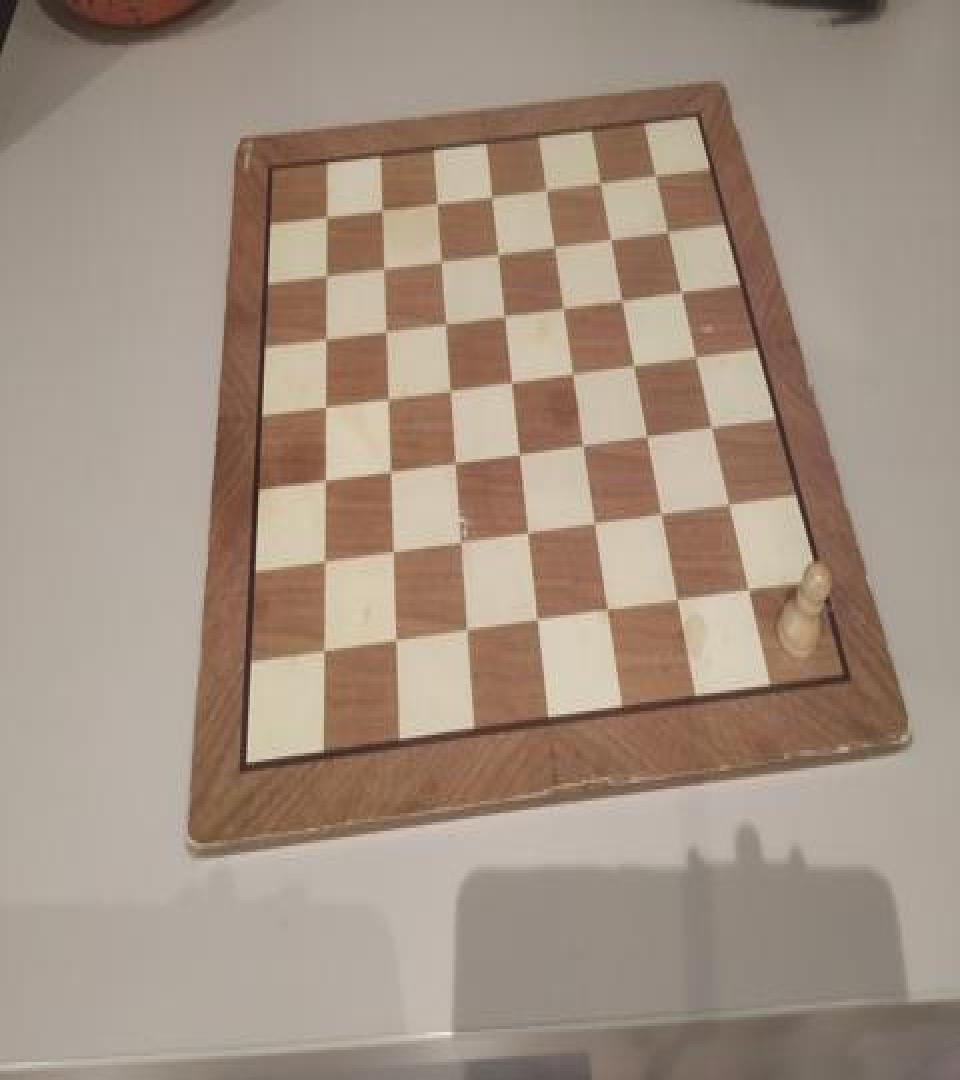xcorner: (654, 499, 674, 530), (311, 466, 331, 497), (375, 382, 395, 413), (373, 313, 393, 344), (614, 280, 634, 311), (429, 241, 449, 272), (309, 640, 329, 670), (382, 630, 402, 660), (455, 618, 475, 648), (599, 597, 619, 627), (741, 576, 761, 606), (310, 549, 330, 579), (380, 538, 400, 568), (518, 519, 538, 549), (586, 508, 606, 538), (722, 489, 742, 519), (377, 458, 397, 488), (443, 447, 463, 477), (509, 438, 529, 468), (574, 429, 594, 459), (640, 420, 660, 450), (704, 411, 724, 441), (311, 392, 331, 422), (438, 374, 458, 404), (501, 364, 521, 394), (564, 356, 584, 386), (626, 346, 646, 376), (688, 339, 708, 369), (312, 321, 332, 351), (434, 304, 454, 334), (494, 297, 514, 327), (554, 288, 574, 318), (673, 272, 693, 302), (312, 258, 332, 288), (371, 250, 391, 280), (487, 234, 507, 264), (545, 226, 565, 256), (603, 219, 623, 249), (660, 212, 680, 242), (313, 198, 333, 228), (369, 190, 389, 220), (425, 183, 445, 213), (481, 177, 501, 207), (537, 170, 557, 200), (592, 162, 612, 192), (647, 154, 667, 184), (527, 608, 547, 637), (670, 587, 690, 616), (449, 530, 469, 559)
